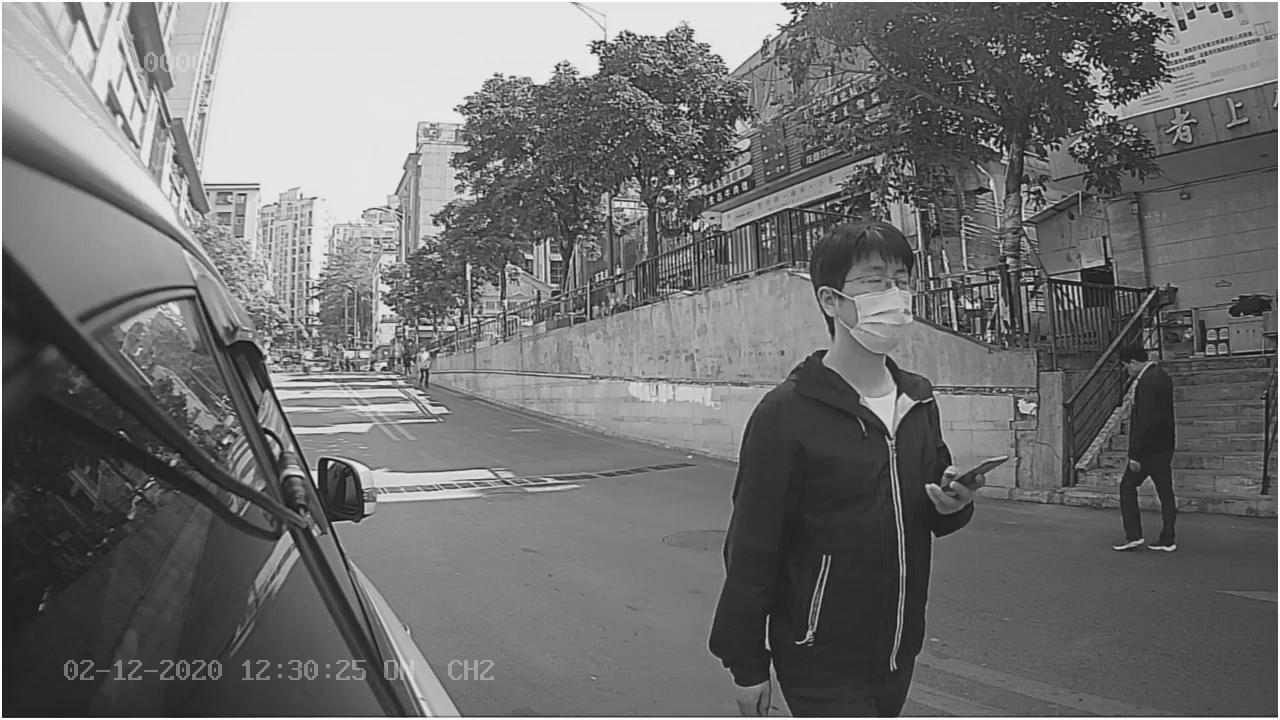person: (734, 215, 987, 531)
